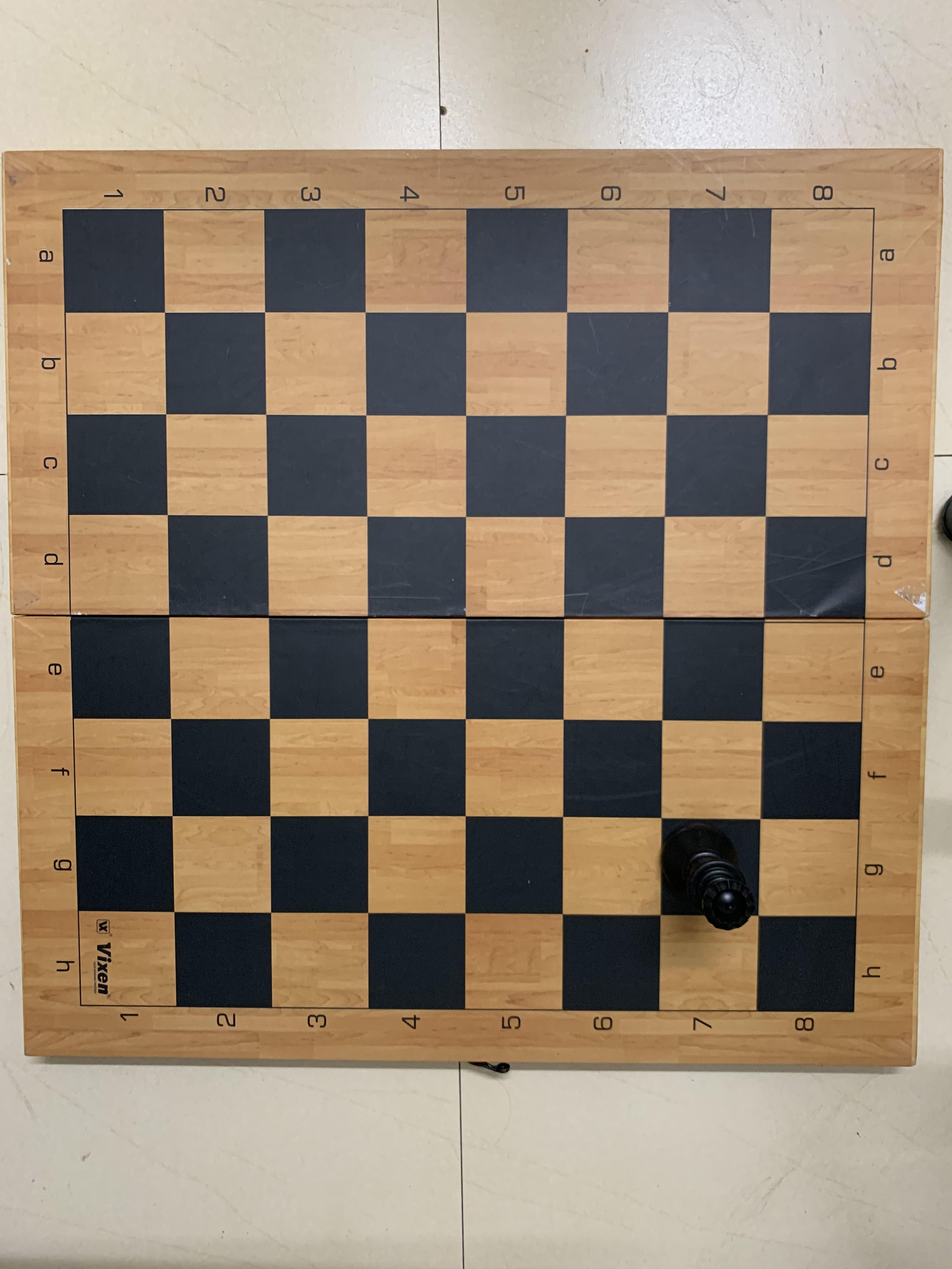black_queen: (658, 823, 762, 941)
